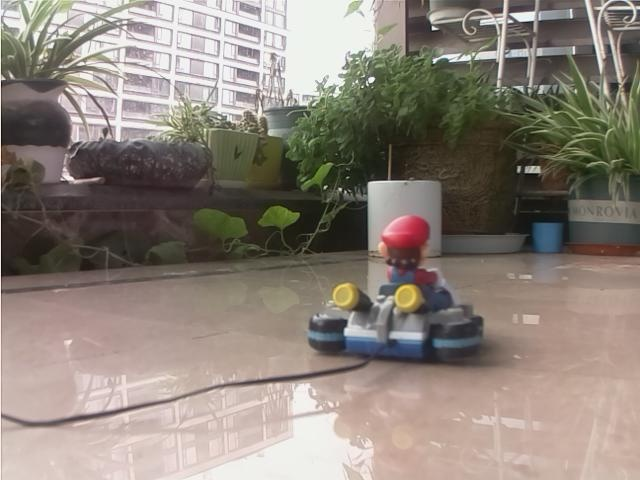mario: (305, 203, 515, 377)
